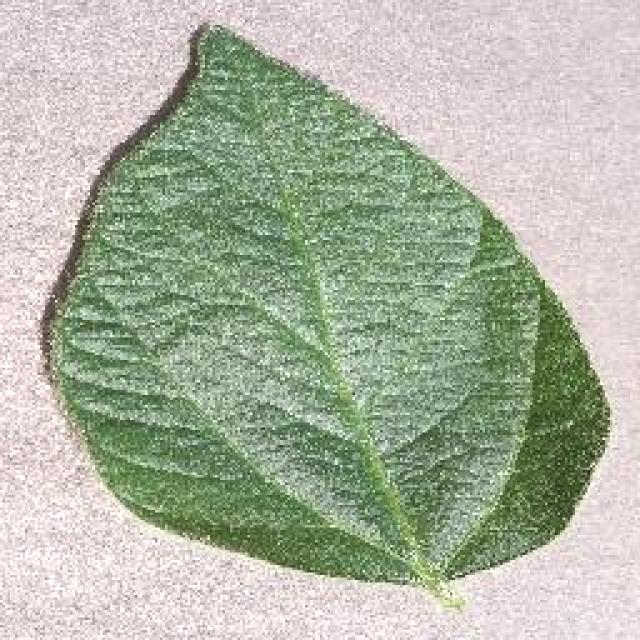healthy: (55, 28, 608, 602)
